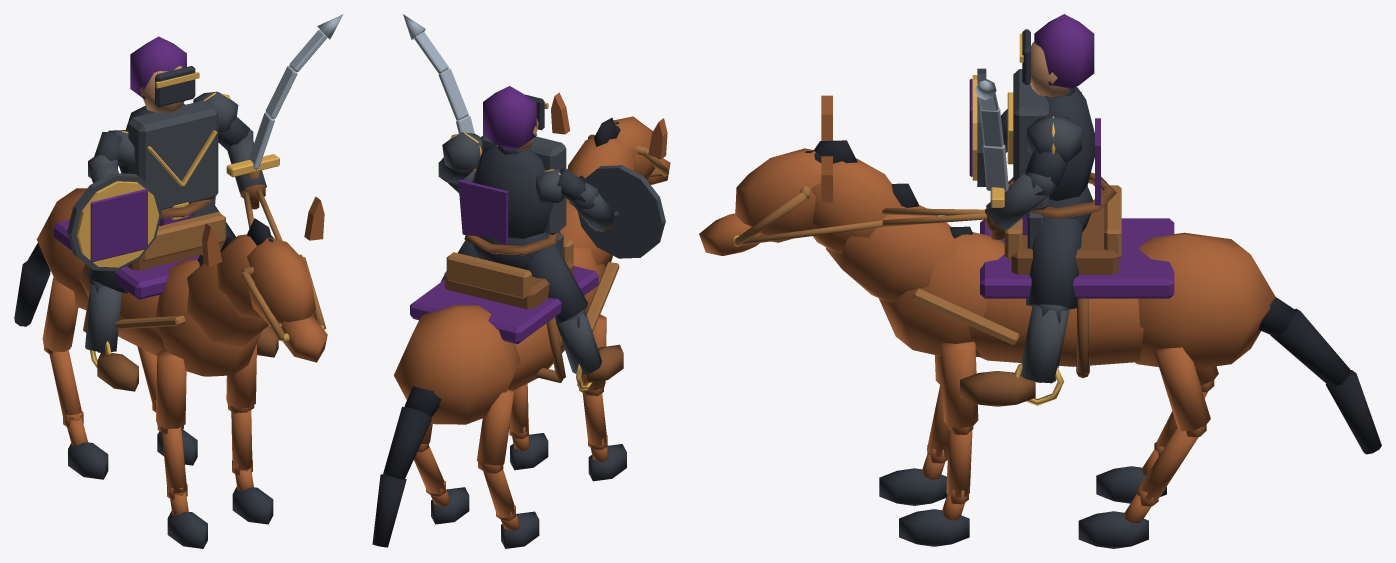
3 renders of one model, left to right at view 1: azimuth 30°, elevation 25°; view 2: azimuth 150°, elevation 25°; view 3: azimuth 270°, elevation 25°, orthographic. The views are drawn at different scales.
Parts seen in each view (by area): view 1: WK_Hegemony_DuskOutrider_LOD2_Compact_Static; view 2: WK_Hegemony_DuskOutrider_LOD2_Compact_Static; view 3: WK_Hegemony_DuskOutrider_LOD2_Compact_Static.
Part boxes in pixels (<box>): WK_Hegemony_DuskOutrider_LOD2_Compact_Static: <box>14,14,343,548</box>; WK_Hegemony_DuskOutrider_LOD2_Compact_Static: <box>372,14,670,548</box>; WK_Hegemony_DuskOutrider_LOD2_Compact_Static: <box>699,14,1381,548</box>.
Bounding box in the file's own units: 1.81 × 2.93 × 3.44.
